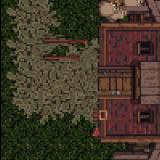Interaction: (31, 27, 76, 70)
Obstacle: (65, 0, 160, 160)
